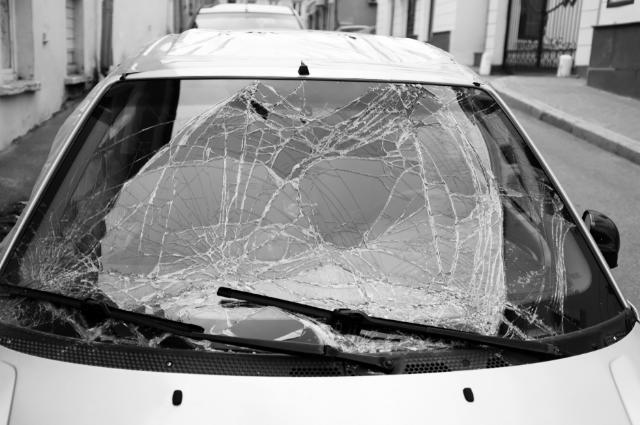Windshield: (2, 83, 590, 292)
